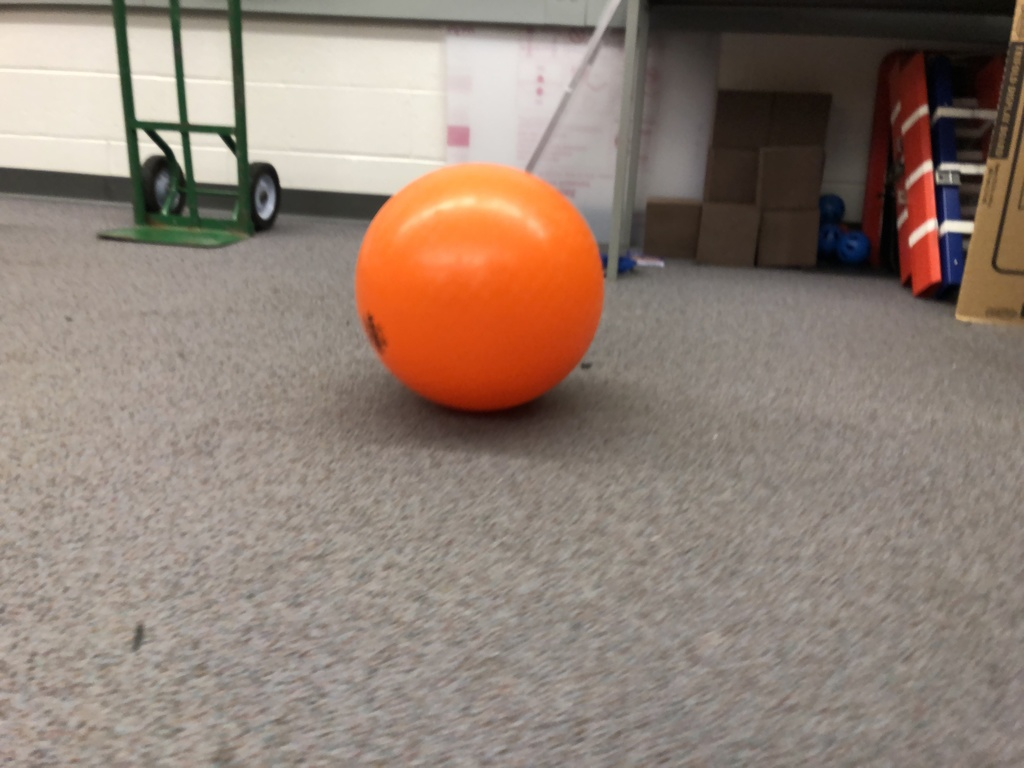cargo: (350, 157, 608, 418)
